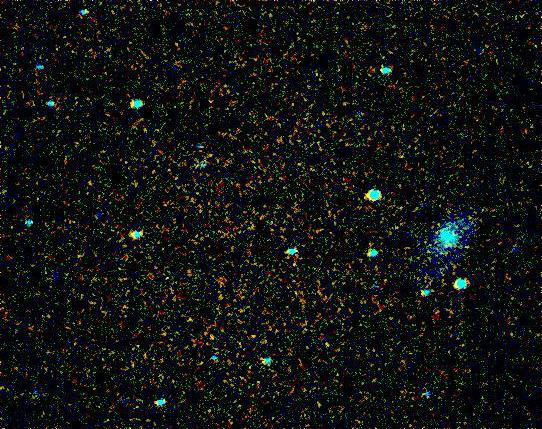star: (450, 234, 480, 264)
